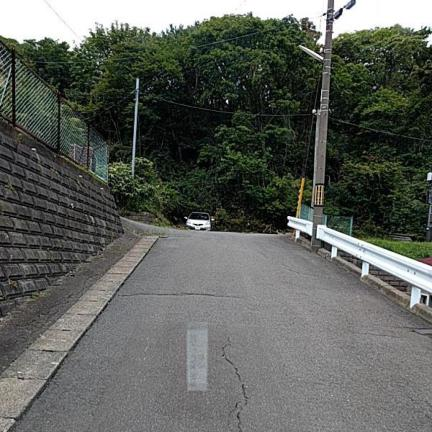Road: (14, 231, 431, 431)
